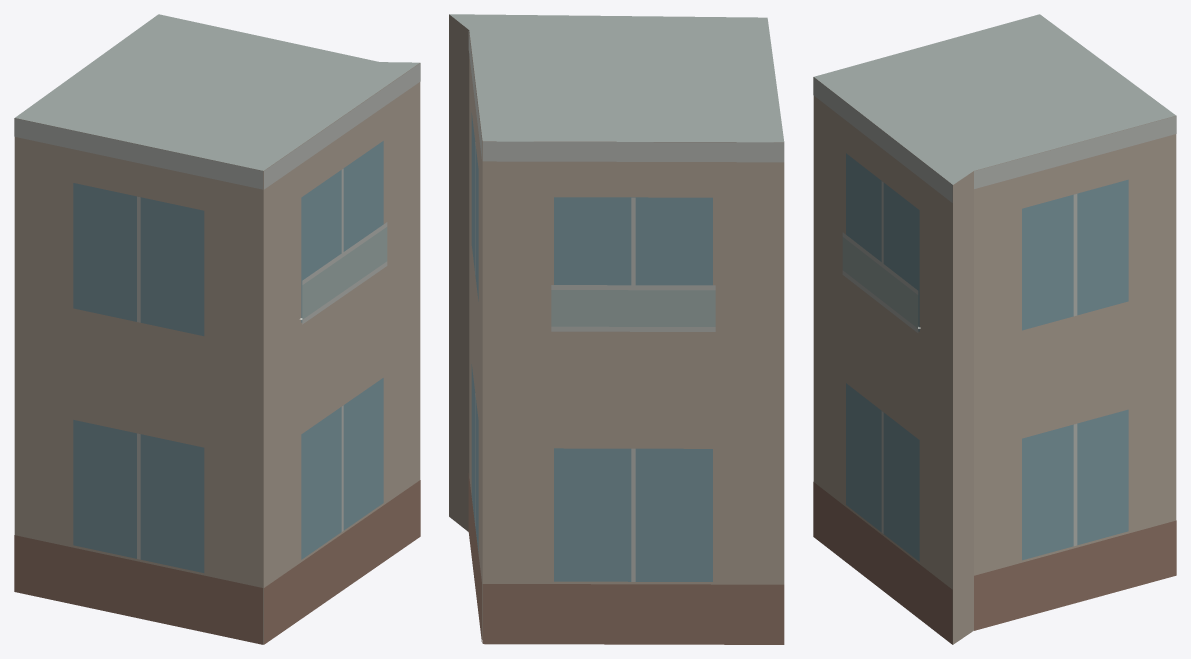
Rendered from survey-upis-32471378.glb.
3 renders of one model, left to right at view 1: azimuth 30°, elevation 25°; view 2: azimuth 150°, elevation 25°; view 3: azimuth 270°, elevation 25°, orthographic. The views are drawn at different scales.
Parts seen in each view (by area): view 1: survey-upis-32471378.tmp; view 2: survey-upis-32471378.tmp; view 3: survey-upis-32471378.tmp.
Part boxes in pixels (left/top/right/bottom): survey-upis-32471378.tmp: left=14, top=14, right=420, bottom=644; survey-upis-32471378.tmp: left=449, top=14, right=784, bottom=644; survey-upis-32471378.tmp: left=813, top=14, right=1176, bottom=644.
Bounding box in the file's own units: 4.87 × 6.1 × 4.37.
